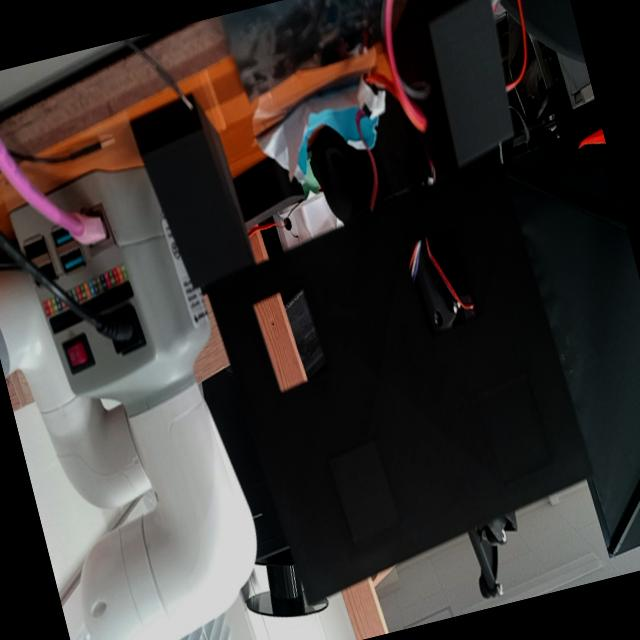Obstacle: (252, 282, 331, 395), (402, 230, 479, 336)
Wall: (207, 150, 595, 606)
